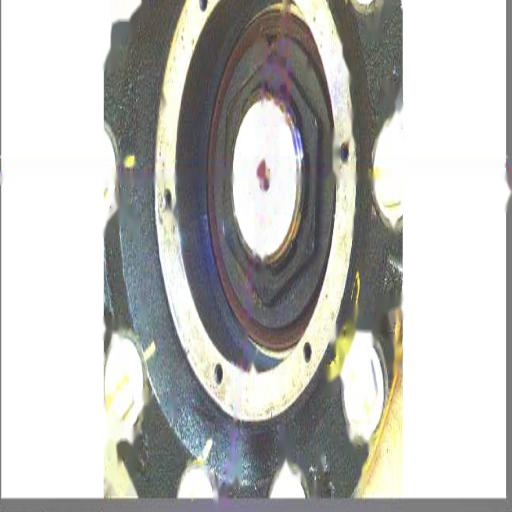center: (260, 176, 273, 200)
notch: (263, 20, 280, 56)
